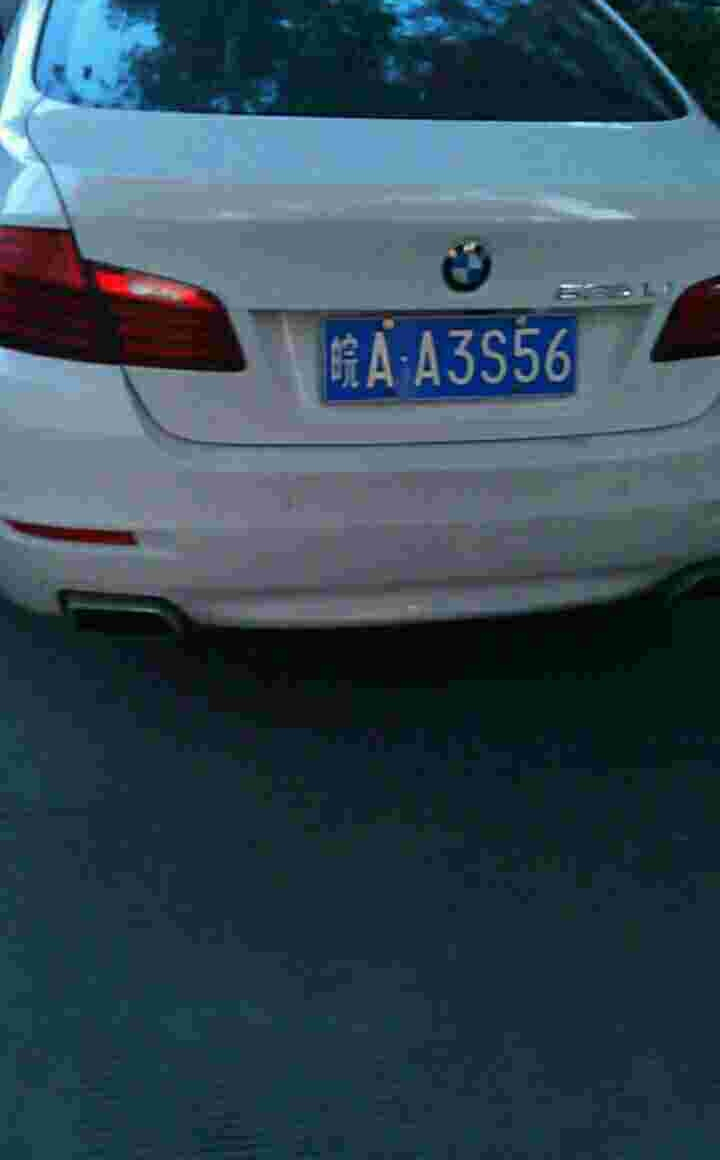plate: (328, 308, 587, 407)
